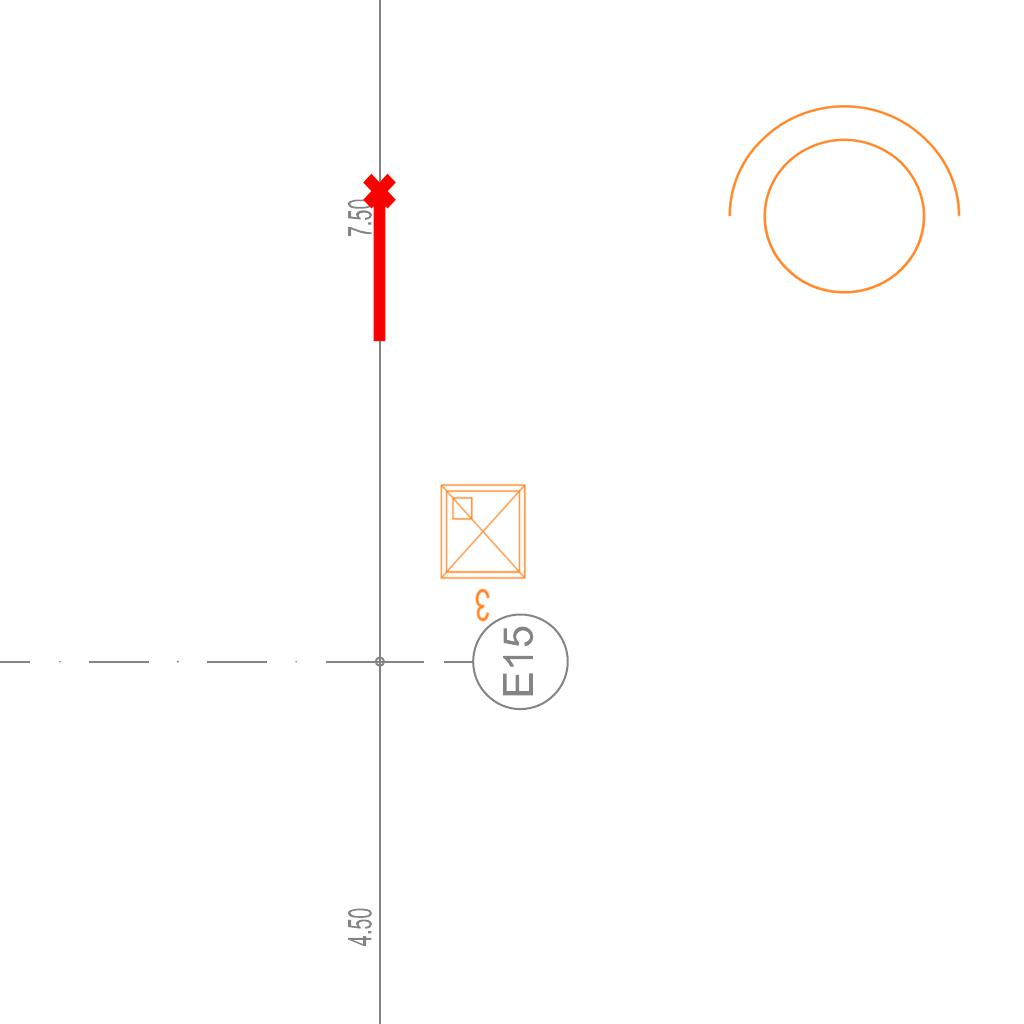ASR_Ansaugoeffnung: (359, 171, 405, 347)
Einbaudownlights_LED_Konferenzraeume: (433, 477, 537, 627)
Scheinwerfer_fuer_Alarmbeleuchtung: (706, 94, 970, 319)
